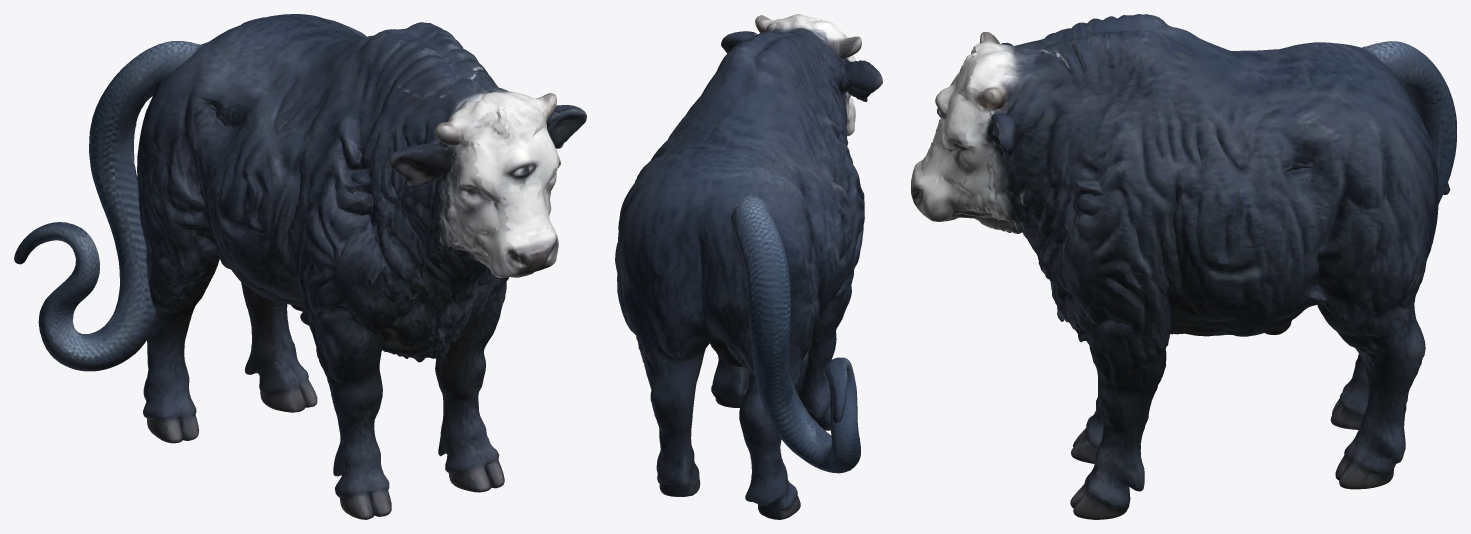
The model's file is fei.glb.
The picture shows the model from 3 angles, left to right: view 1: azimuth 30°, elevation 25°; view 2: azimuth 150°, elevation 25°; view 3: azimuth 270°, elevation 25°; orthographic projection. The views are drawn at different scales.
Parts seen in each view (by area): view 1: geometry_0; view 2: geometry_0; view 3: geometry_0.
Boxes of the visible parts, x1,y1,x2,y2 form: geometry_0: (14,14,586,519); geometry_0: (615,14,882,519); geometry_0: (911,14,1456,519).
Bounding box in the file's own units: 2.8 × 3.38 × 3.6.
Materials: 1 (1 with a texture image).
